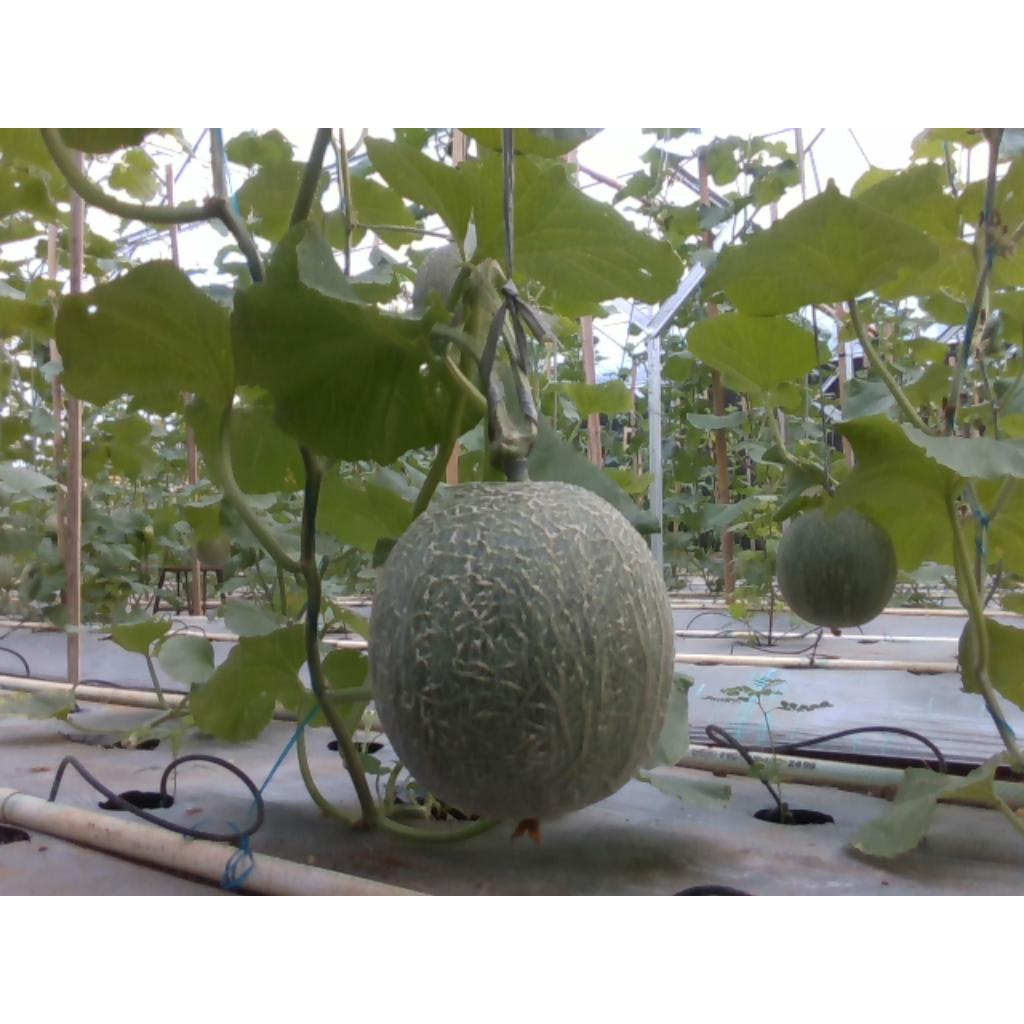melon: (371, 483, 675, 820)
